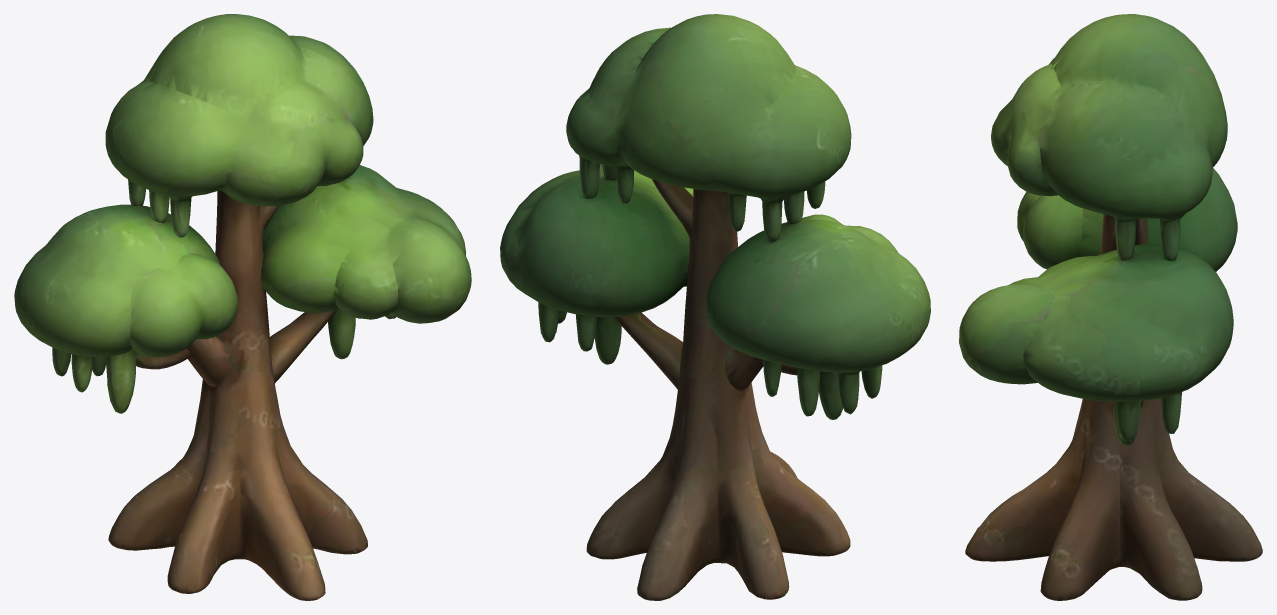
The model's file is bald_cypress_pbr.glb.
3 renders of one model, left to right at view 1: azimuth 30°, elevation 25°; view 2: azimuth 150°, elevation 25°; view 3: azimuth 270°, elevation 25°, orthographic.
Visible parts, largest first — view 1: model.002; view 2: model.002; view 3: model.002.
Boxes of the visible parts, x1,y1,x2,y2 form: model.002: (14,14,471,600); model.002: (500,14,930,600); model.002: (959,14,1262,600).
Size of the model in its own units: 1.67 by 2.06 by 1.07.
1 material, 1 textured.
